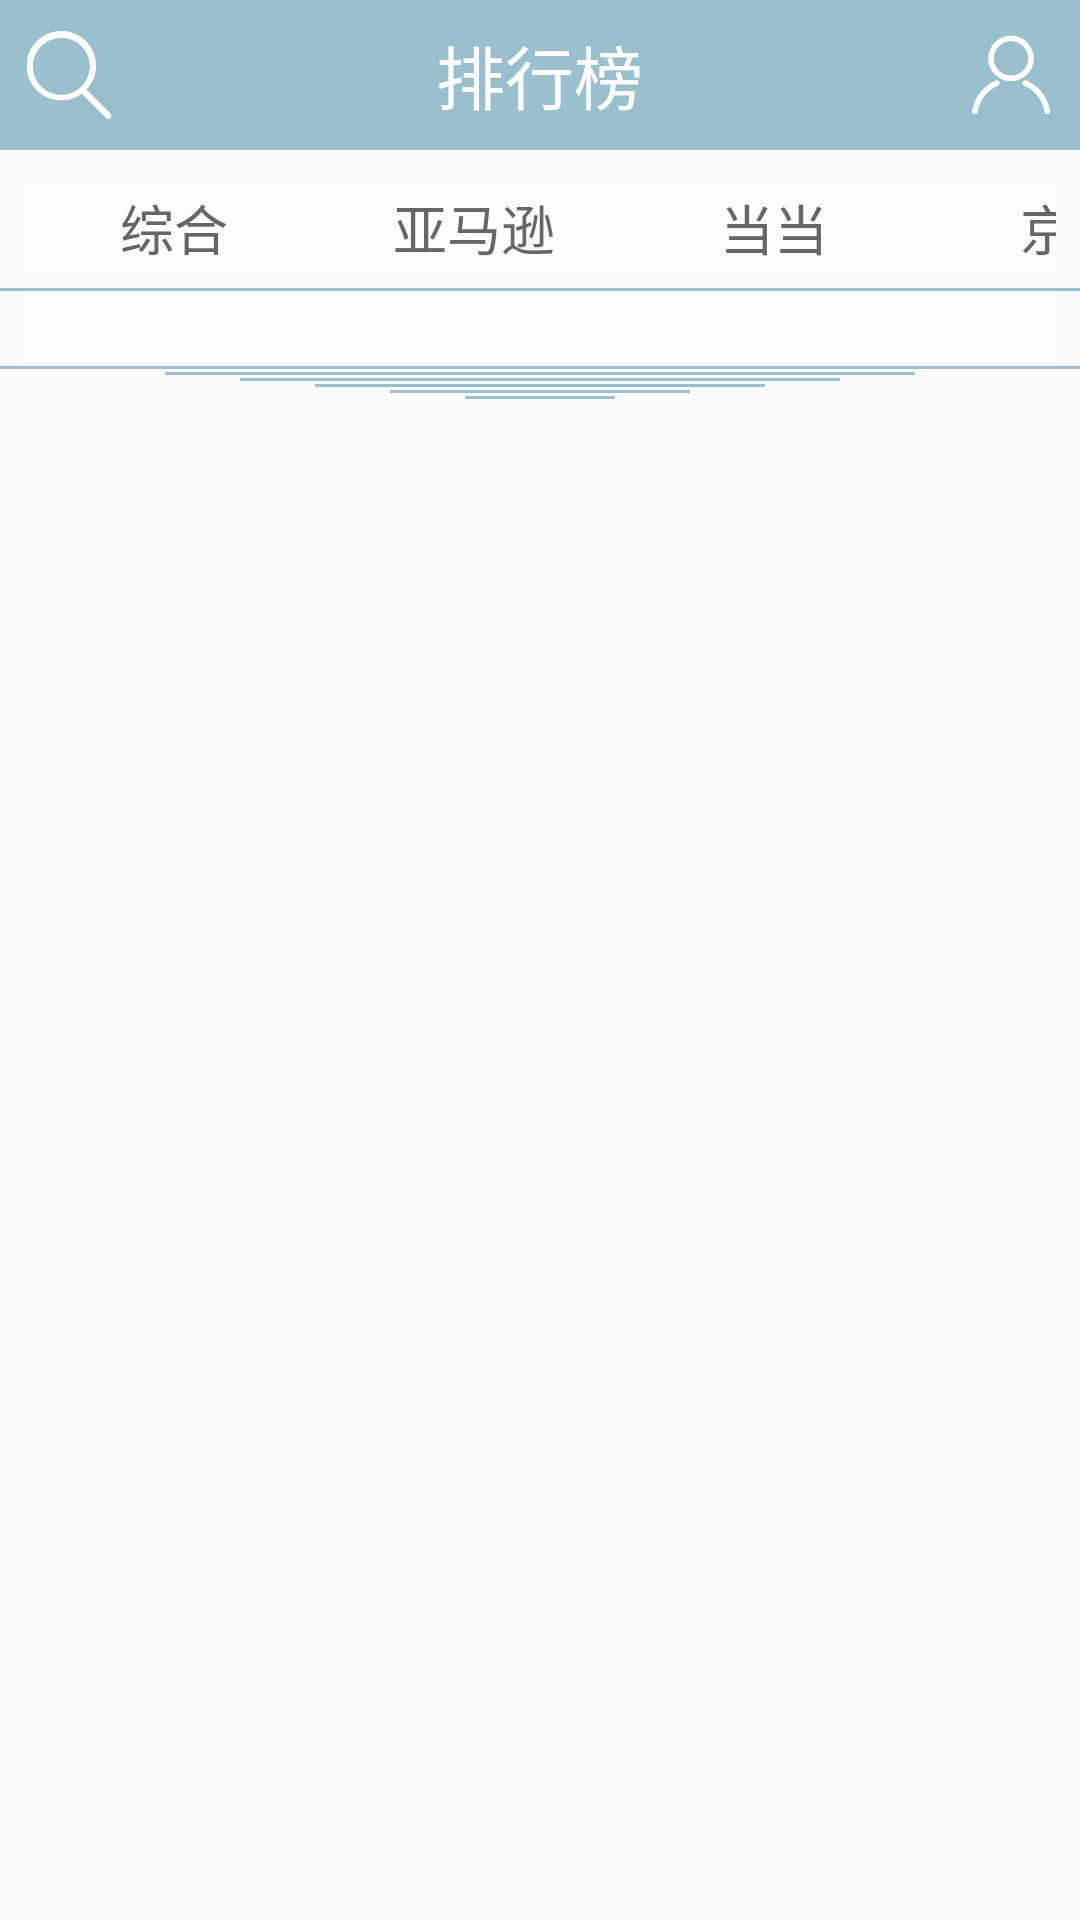

Locate icon controls on the screen. Image size 1080w x 1920h, boxes as box=[x1, y1, x2, y2].
search: box=[26, 31, 112, 119]
userw: box=[972, 35, 1050, 114]
